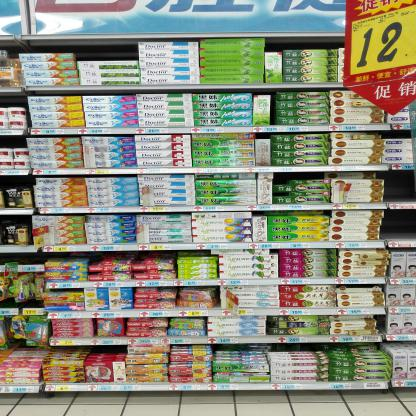Void: (81, 43, 127, 60), (380, 209, 407, 236), (386, 171, 410, 200), (266, 40, 333, 50), (280, 169, 319, 180)
